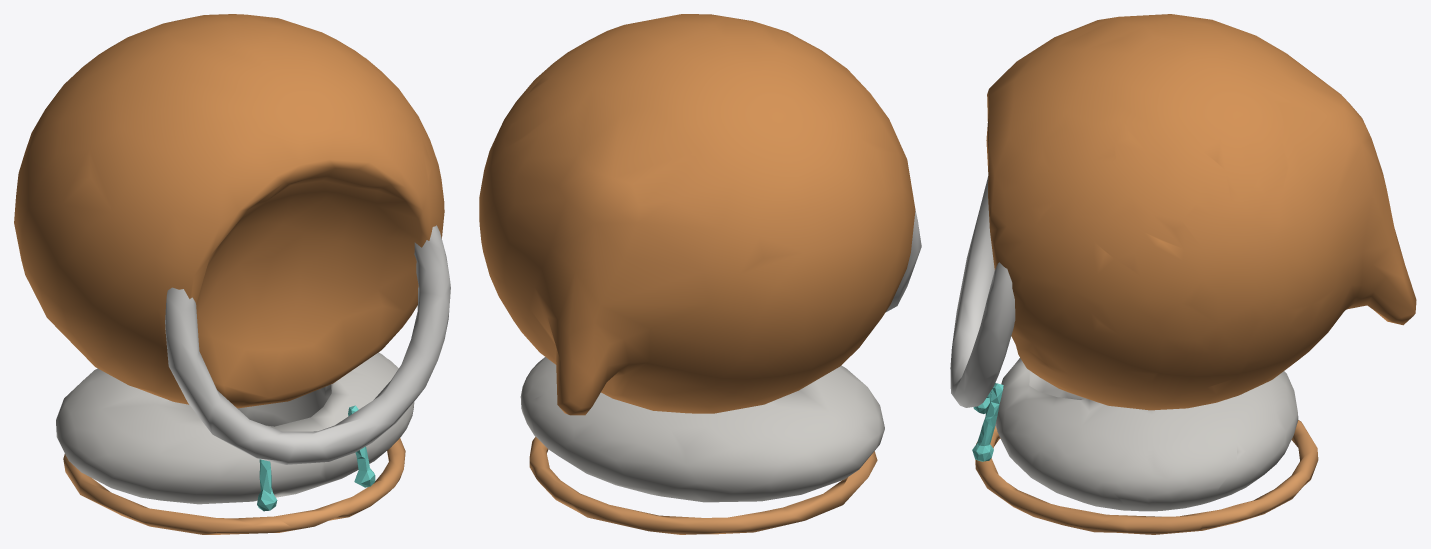
Rendered from tenue_lavande.glb.
3 renders of one model, left to right at view 1: azimuth 30°, elevation 25°; view 2: azimuth 150°, elevation 25°; view 3: azimuth 270°, elevation 25°, orthographic.
Parts seen in each view (by area): view 1: head__coiffe, torso__torse, head__coiffe_glow; view 2: head__coiffe, torso__torse; view 3: head__coiffe, torso__torse, head__coiffe_glow.
Boxes of the visible parts, x1,y1,x2,y2 form: head__coiffe: [14, 14, 450, 464]; torso__torse: [56, 352, 414, 534]; head__coiffe_glow: [257, 405, 375, 511]; head__coiffe: [479, 14, 921, 415]; torso__torse: [520, 357, 884, 534]; head__coiffe: [950, 14, 1416, 410]; torso__torse: [975, 358, 1318, 534]; head__coiffe_glow: [972, 383, 1003, 461].
Size of the model in its own units: 0.5838 by 0.6408 by 0.6294.
